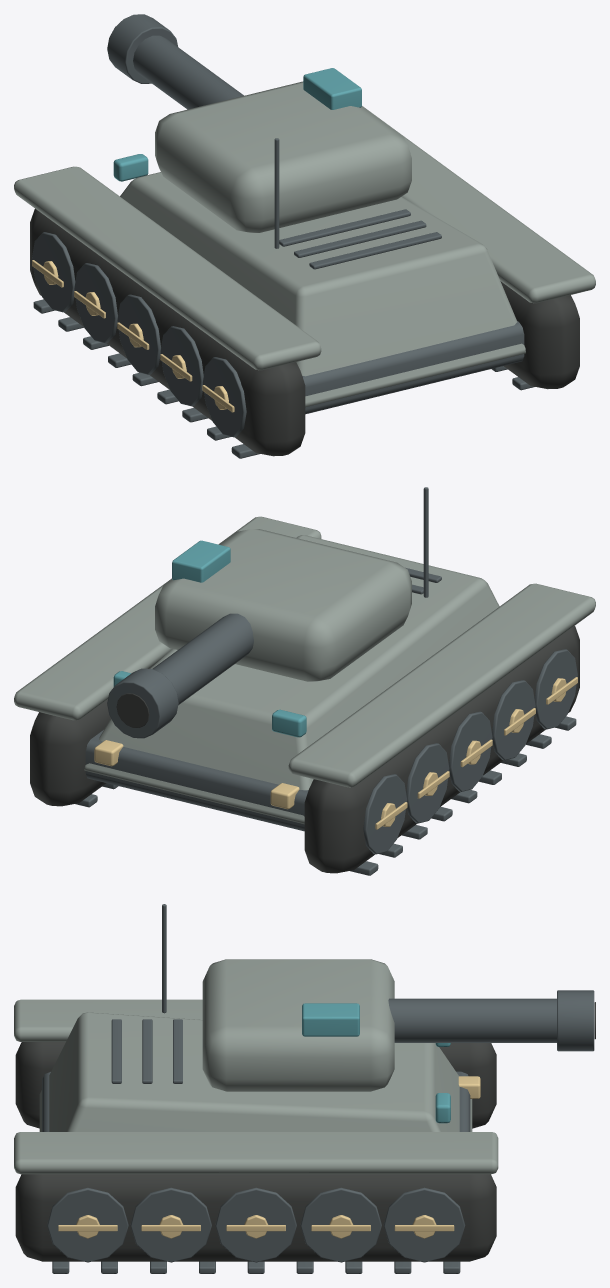
File: STV-E02.fbx
3 views of the same model, one above another, from view 1: azimuth 30°, elevation 25°; view 2: azimuth 150°, elevation 25°; view 3: azimuth 270°, elevation 25° (orthographic).
Parts seen in each view (by area): view 1: STV-E02_EnemyRanged, STV-E02_EnemyGunmetal, STV-E02_EnemyTrack, STV-E02_EnemyOptic, Wheel_-1_2.001, Wheel_-1_3.001, Wheel_-1_0.001, Wheel_-1_1.001, Wheel_-1_4.001; view 2: STV-E02_EnemyRanged, STV-E02_EnemyTrack, STV-E02_EnemyGunmetal, STV-E02_EnemyOptic, Wheel_-1_1.001, Wheel_-1_4.001, Wheel_-1_2.001, Wheel_-1_3.001, Wheel_-1_0.001, STV-E02_EnemyMark; view 3: STV-E02_EnemyRanged, STV-E02_EnemyTrack, STV-E02_EnemyGunmetal, Wheel_1_0.001, Wheel_1_1.001, Wheel_1_3.001, Wheel_1_2.001, Wheel_1_4.001, STV-E02_EnemyOptic.
Part boxes in pixels (x1=…): STV-E02_EnemyRanged: x1=14, y1=81, x2=595, y2=407; STV-E02_EnemyGunmetal: x1=33, y1=14, x2=534, y2=458; STV-E02_EnemyTrack: x1=30, y1=208, x2=579, y2=456; STV-E02_EnemyOptic: x1=113, y1=68, x2=361, y2=181; Wheel_-1_2.001: x1=117, y1=294, x2=160, y2=374; Wheel_-1_3.001: x1=74, y1=263, x2=117, y2=343; Wheel_-1_0.001: x1=202, y1=357, x2=246, y2=437; Wheel_-1_1.001: x1=160, y1=326, x2=203, y2=406; Wheel_-1_4.001: x1=32, y1=232, x2=75, y2=312; STV-E02_EnemyRanged: x1=14, y1=516, x2=595, y2=824; STV-E02_EnemyTrack: x1=30, y1=626, x2=579, y2=873; STV-E02_EnemyGunmetal: x1=75, y1=487, x2=576, y2=875; STV-E02_EnemyOptic: x1=113, y1=540, x2=306, y2=737; Wheel_-1_1.001: x1=492, y1=680, x2=535, y2=760; Wheel_-1_4.001: x1=363, y1=774, x2=407, y2=854; Wheel_-1_2.001: x1=449, y1=711, x2=492, y2=791; Wheel_-1_3.001: x1=406, y1=743, x2=449, y2=823; Wheel_-1_0.001: x1=534, y1=649, x2=577, y2=729; STV-E02_EnemyMark: x1=94, y1=740, x2=299, y2=809; STV-E02_EnemyRanged: x1=14, y1=959, x2=498, y2=1174; STV-E02_EnemyTrack: x1=15, y1=1002, x2=595, y2=1261; STV-E02_EnemyGunmetal: x1=42, y1=904, x2=594, y2=1273; Wheel_1_0.001: x1=47, y1=1187, x2=128, y2=1262; Wheel_1_1.001: x1=130, y1=1187, x2=211, y2=1262; Wheel_1_3.001: x1=300, y1=1187, x2=381, y2=1262; Wheel_1_2.001: x1=215, y1=1187, x2=296, y2=1262; Wheel_1_4.001: x1=383, y1=1187, x2=465, y2=1262; STV-E02_EnemyOptic: x1=302, y1=1003, x2=450, y2=1123.
Bounding box in the file's own units: 232 × 164 × 342.
